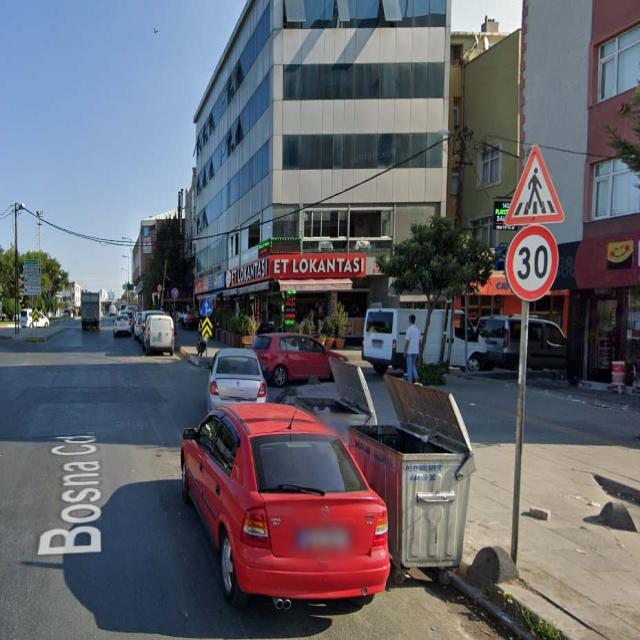30: (507, 225, 558, 301)
ilerisag: (201, 300, 212, 316)
